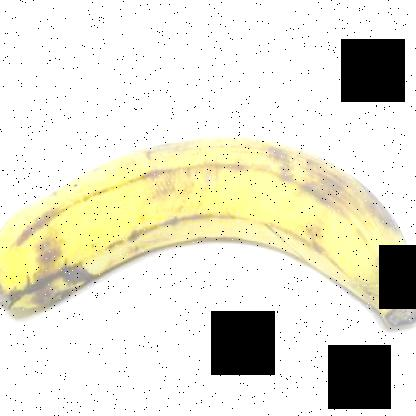overripe: (0, 127, 415, 343)
